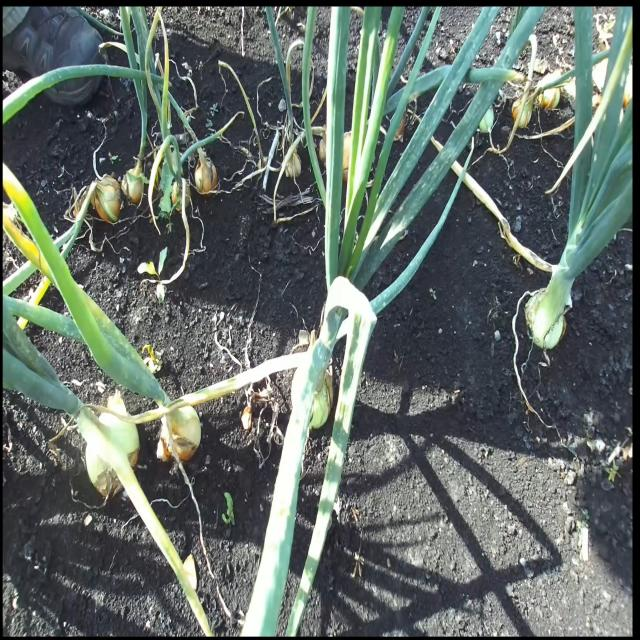onion: (76, 405, 140, 500), (157, 401, 202, 464), (93, 173, 122, 224), (120, 158, 148, 206), (194, 148, 218, 195)
